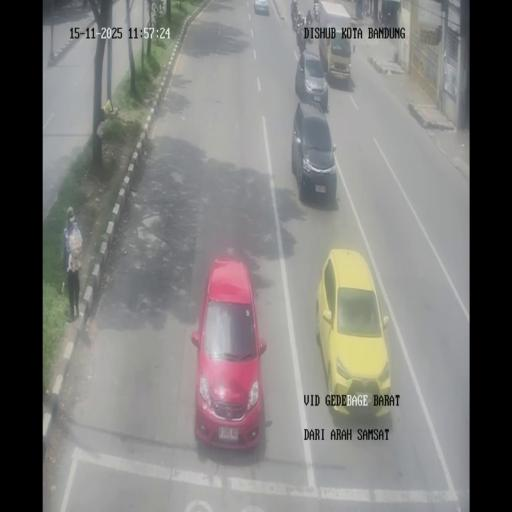car: (292, 100, 338, 206), (294, 50, 328, 112), (327, 34, 352, 82), (254, 0, 269, 15)
truck: (297, 16, 306, 48), (292, 10, 299, 33), (362, 0, 369, 18), (314, 5, 320, 22), (378, 8, 384, 23)
